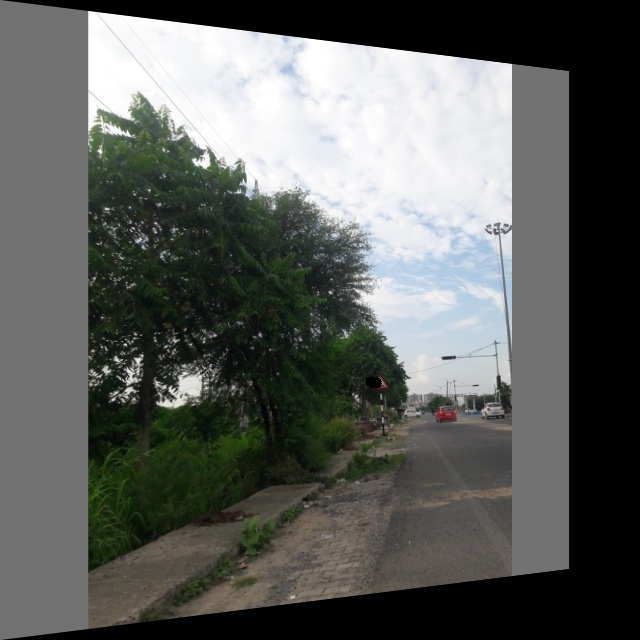Hump_or_Rough_Road: (370, 368, 390, 395)
